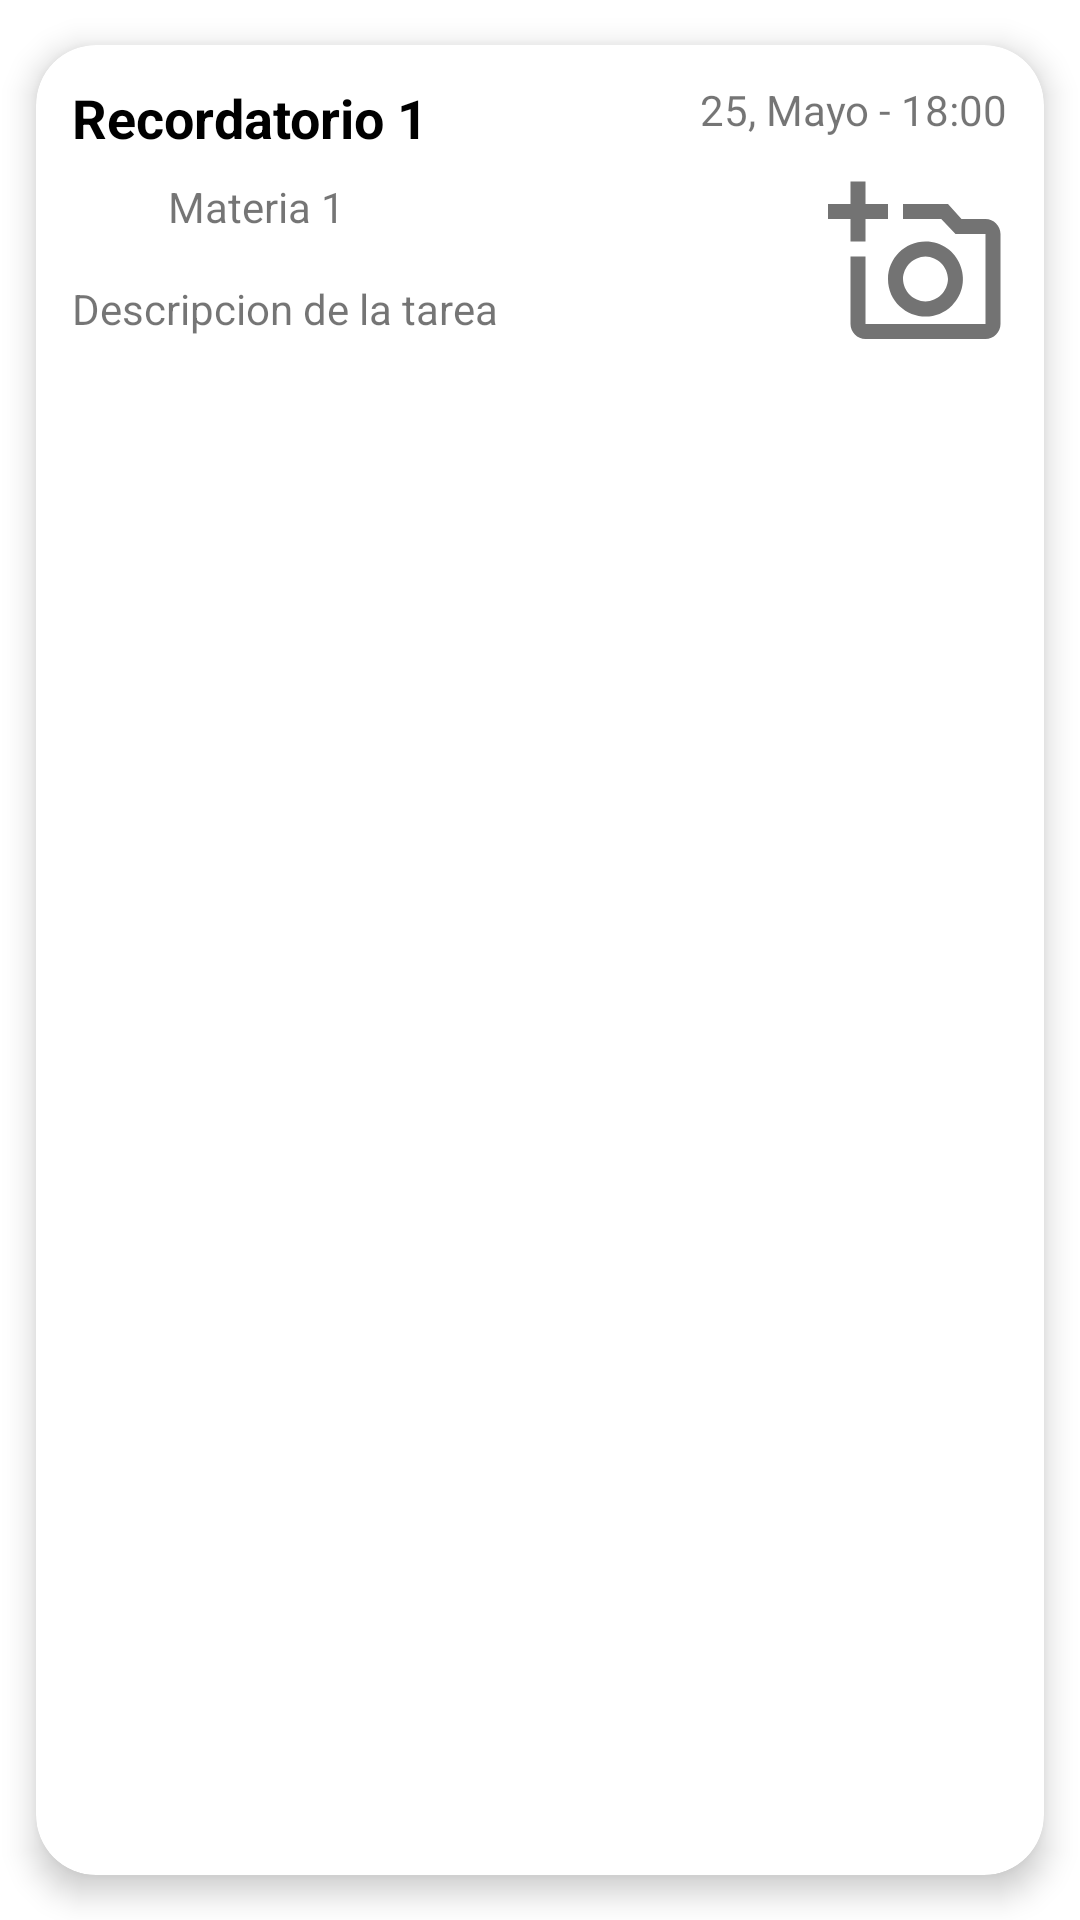

Where to tap for icons on this 1080 × 1920 app screen, as (x,y):
camera: (914,260)
